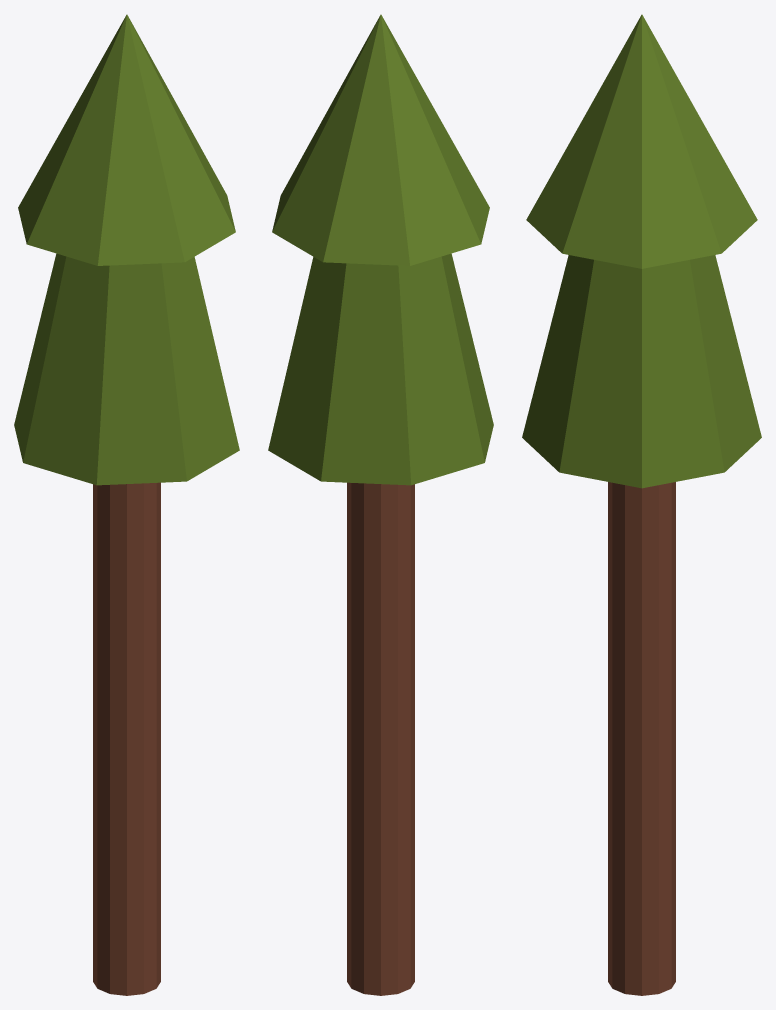
File: Tree_21_autumn_vc.fbx
3 renders of one model, left to right at view 1: azimuth 30°, elevation 25°; view 2: azimuth 150°, elevation 25°; view 3: azimuth 270°, elevation 25°, orthographic.
Parts seen in each view (by area): view 1: Tree_21_autumn_vc; view 2: Tree_21_autumn_vc; view 3: Tree_21_autumn_vc.
Boxes of the visible parts, x1,y1,x2,y2 form: Tree_21_autumn_vc: (14, 14, 239, 995); Tree_21_autumn_vc: (268, 14, 493, 995); Tree_21_autumn_vc: (522, 14, 761, 995).
Size of the model in its own units: 77.92 by 347 by 77.92.
